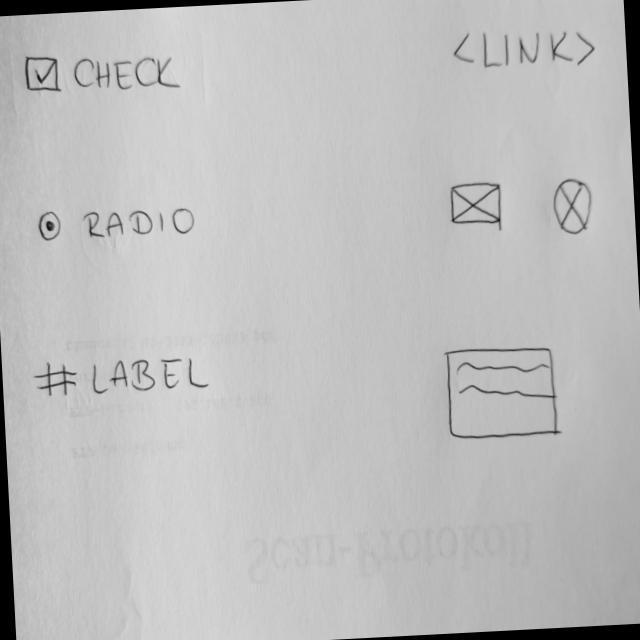checkbox: (24, 47, 186, 101)
image: (450, 180, 505, 231), (552, 176, 596, 239)
label: (33, 352, 215, 402)
link: (451, 24, 599, 75)
radio: (38, 202, 200, 247)
textarea: (445, 344, 564, 444)
